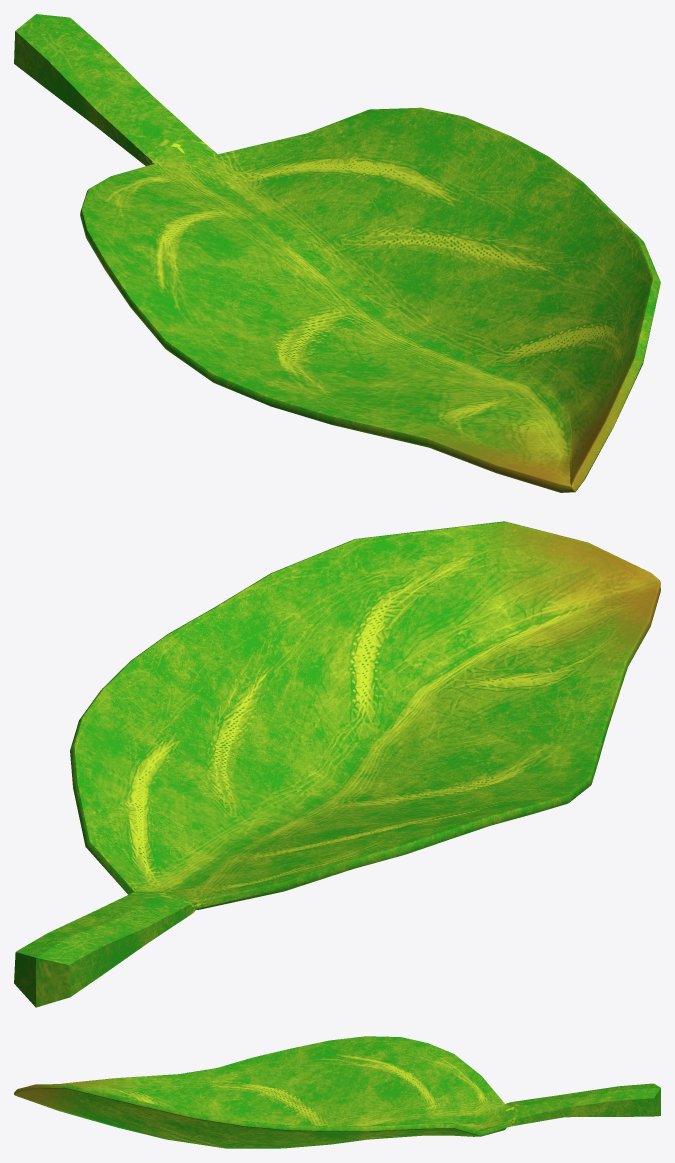
Rendered from Leaf_Low_2.fbx.
3 renders of one model, top to bottom at view 1: azimuth 30°, elevation 25°; view 2: azimuth 150°, elevation 25°; view 3: azimuth 270°, elevation 25°, orthographic. The views are drawn at different scales.
Visible parts, largest first — view 1: Leaf_Low2; view 2: Leaf_Low2; view 3: Leaf_Low2.
Boxes of the visible parts, x1=… form: Leaf_Low2: x1=14, y1=14, x2=660, y2=492; Leaf_Low2: x1=14, y1=521, x2=660, y2=1007; Leaf_Low2: x1=14, y1=1036, x2=660, y2=1148.
Bounding box in the file's own units: 1.31 × 0.4041 × 3.17.
1 material, 1 textured.
